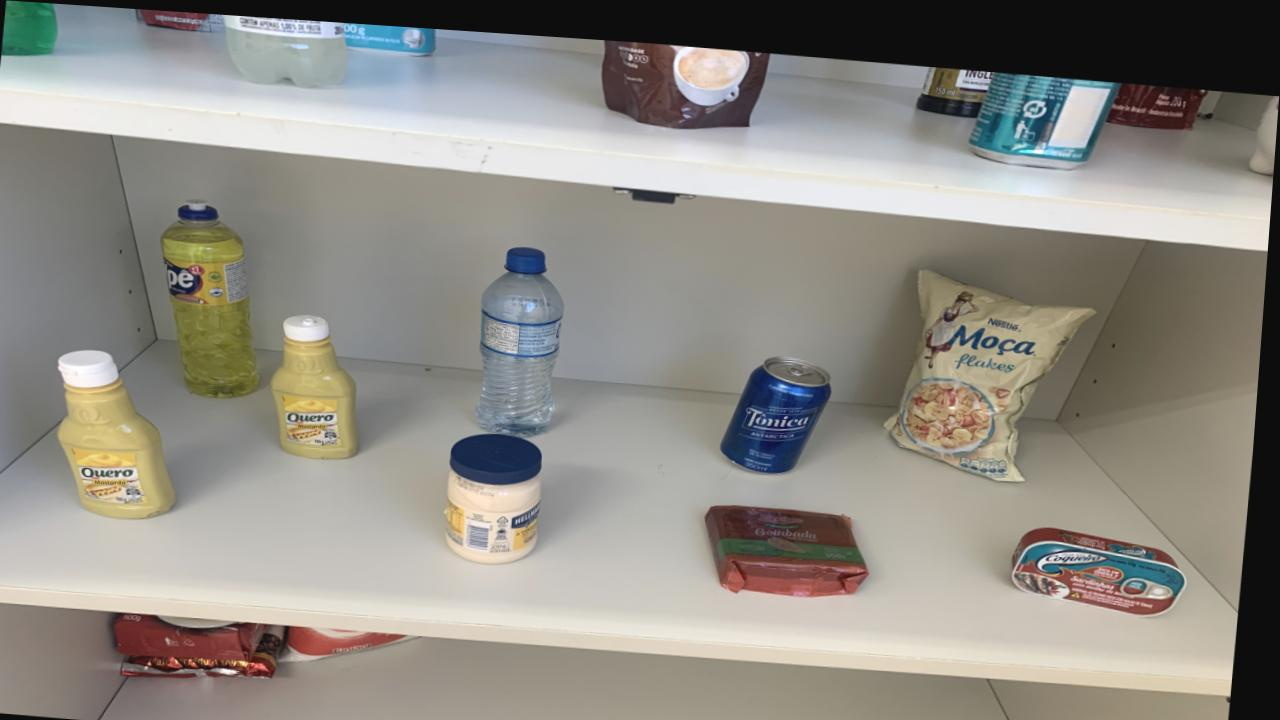Coffee-Pantry_Items: (601, 32, 769, 120)
Detergent-Cleanup_Items: (164, 197, 264, 395), (2, 0, 57, 56)
English_Sauce-Pantry_Items: (918, 54, 993, 104)
Flakes-Snacks: (889, 257, 1098, 467)
Guava-Snacks: (713, 494, 878, 585)
Mayonnaise-Pantry_Items: (453, 426, 549, 557)
Mustard-Pantry_Items: (64, 349, 183, 516), (276, 311, 365, 454)
Pig_Safe-Miscellaneous: (1250, 78, 1279, 157)
Soda-Drinks: (223, 12, 349, 83)
Tea-Drinks: (970, 58, 1118, 154)
Tomato_Sauce-Pantry_Items: (1108, 67, 1208, 113), (136, 7, 225, 30)
Tonic-Drinks: (726, 345, 836, 463)
Tuna_Can-Pantry_Items: (1019, 512, 1194, 600)
Water_Bottle-Drinks: (482, 240, 569, 428)
